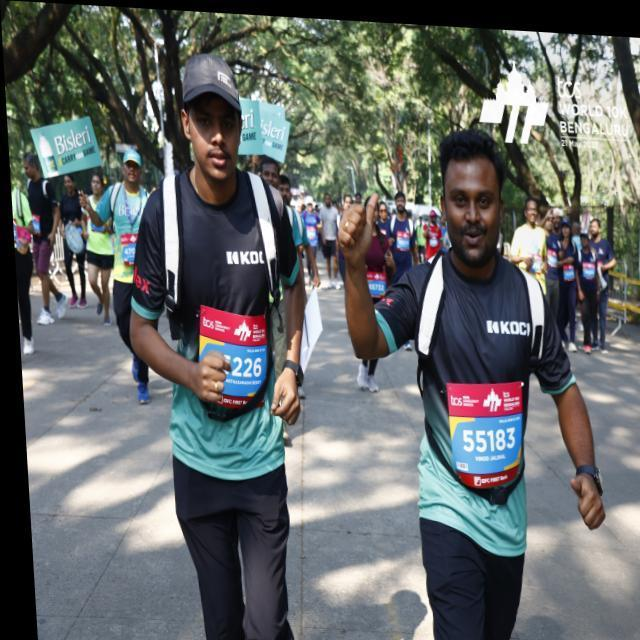dorsal: (441, 376, 518, 481), (196, 302, 267, 408)
